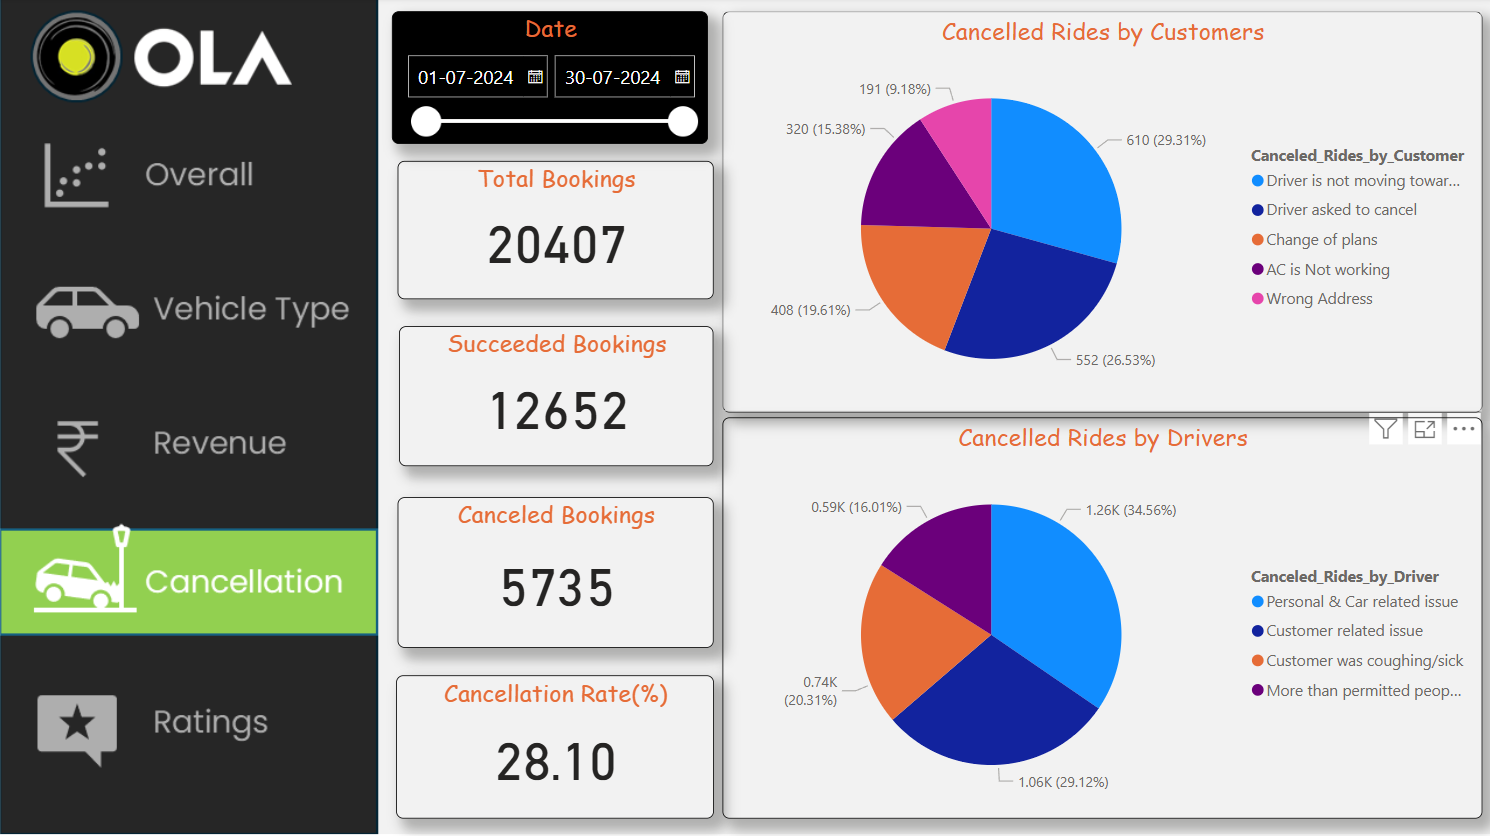

This screenshot's page, from the dashboard's own definition file:
{"tool":"powerbi","page":{"name":"Cancellation","canvas":[1280,720],"ordinal":3},"visuals":[{"type":"actionButton","box":[0,225.9,324.8,86.7],"z":0},{"type":"actionButton","box":[0,341.9,324.8,86.7],"z":1000},{"type":"actionButton","box":[0,581.3,324.8,86.7],"z":2000},{"type":"actionButton","box":[0,108.7,324.8,86.7],"z":3000},{"type":"actionButton","box":[0,108.7,324.8,86.7],"z":4000},{"type":"pieChart","title":"Cancelled Rides by Customers","fields":{"Category":["Bookings (2).Canceled_Rides_by_Customer"],"Y":["CountNonNull(Bookings (2).Canceled_Rides_by_Customer)"]},"box":[619.4,12.1,651.2,343.7],"z":5000},{"type":"pieChart","title":"Cancelled Rides by Drivers","fields":{"Category":["Bookings (2).Canceled_Rides_by_Driver"],"Y":["CountNonNull(Bookings (2).Canceled_Rides_by_Driver)"]},"box":[619.4,360.4,651.2,343.7],"z":6000},{"type":"slicer","title":"Date","fields":{"Values":["Bookings (2).Date"]},"box":[336.2,12.1,271.1,113.6],"z":7000},{"type":"card","title":"Total Bookings","fields":{"Values":["CountNonNull(Bookings (2).Booking_Status)"]},"box":[340.2,140.1,270.9,118.7],"z":8000},{"type":"card","title":"Succeeded Bookings","fields":{"Values":["CountNonNull(Bookings (2).Booking_ID)"]},"box":[341.6,281.5,269.5,120.1],"z":9000},{"type":"card","title":"Canceled Bookings","fields":{"Values":["CountNonNull(Bookings (2).Booking_ID)"]},"box":[340.2,428.3,270.9,129.4],"z":10000},{"type":"card","title":"Cancellation Rate(%)","fields":{"Values":["Bookings (2).CanceledPercentage"]},"box":[338.9,581.7,272.2,122.8],"z":11000}]}

Visuals, with their boxes in screenshot pixels (x1, y1, x2, y2), scaled from the page's 1280x720 canvas onto the 1490x836 screenshot:
actionButton: {"x1": 0, "y1": 262, "x2": 378, "y2": 363}
actionButton: {"x1": 0, "y1": 397, "x2": 378, "y2": 498}
actionButton: {"x1": 0, "y1": 675, "x2": 378, "y2": 776}
actionButton: {"x1": 0, "y1": 126, "x2": 378, "y2": 227}
actionButton: {"x1": 0, "y1": 126, "x2": 378, "y2": 227}
"Cancelled Rides by Customers" pieChart: {"x1": 721, "y1": 14, "x2": 1479, "y2": 413}
"Cancelled Rides by Drivers" pieChart: {"x1": 721, "y1": 418, "x2": 1479, "y2": 818}
"Date" slicer: {"x1": 391, "y1": 14, "x2": 707, "y2": 146}
"Total Bookings" card: {"x1": 396, "y1": 163, "x2": 711, "y2": 300}
"Succeeded Bookings" card: {"x1": 398, "y1": 327, "x2": 711, "y2": 466}
"Canceled Bookings" card: {"x1": 396, "y1": 497, "x2": 711, "y2": 648}
"Cancellation Rate(%)" card: {"x1": 395, "y1": 675, "x2": 711, "y2": 818}
